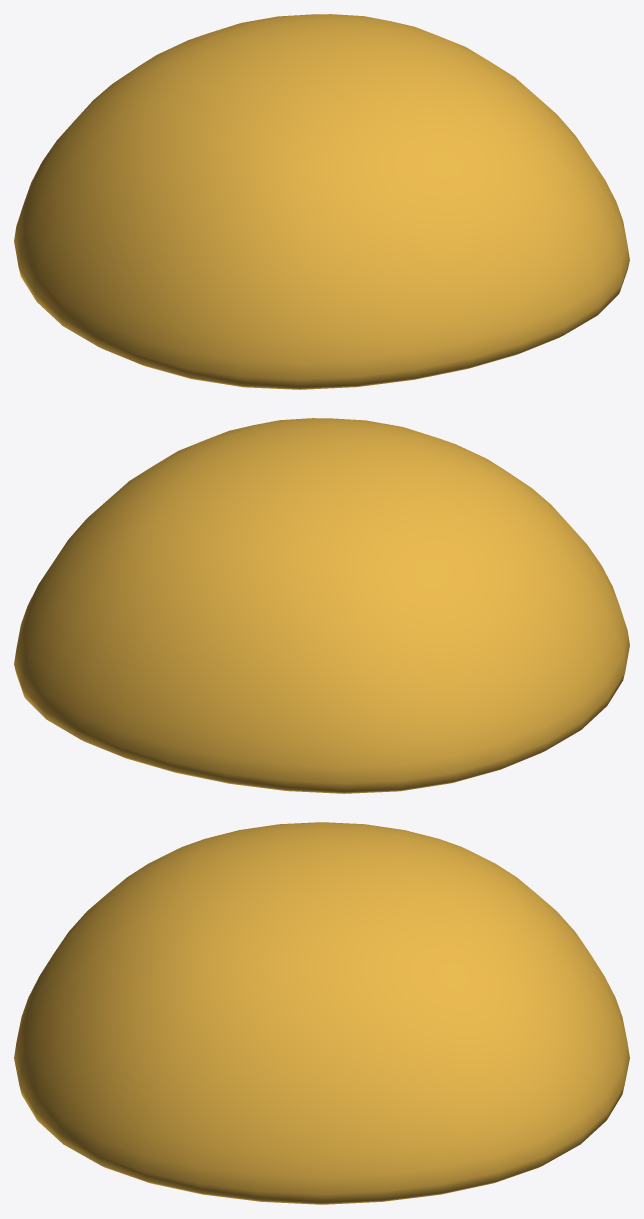
Rendered from Hamburger_bread_up.fbx.
3 views of the same model, one above another, from view 1: azimuth 30°, elevation 25°; view 2: azimuth 150°, elevation 25°; view 3: azimuth 270°, elevation 25° (orthographic). The views are drawn at different scales.
Visible parts, largest first — view 1: hmbr_bread_up; view 2: hmbr_bread_up; view 3: hmbr_bread_up.
Boxes of the visible parts, x1=… form: hmbr_bread_up: x1=14, y1=14, x2=629, y2=389; hmbr_bread_up: x1=14, y1=418, x2=629, y2=793; hmbr_bread_up: x1=14, y1=822, x2=629, y2=1204.
Bounding box in the file's own units: 91.56 × 36.25 × 91.56.
